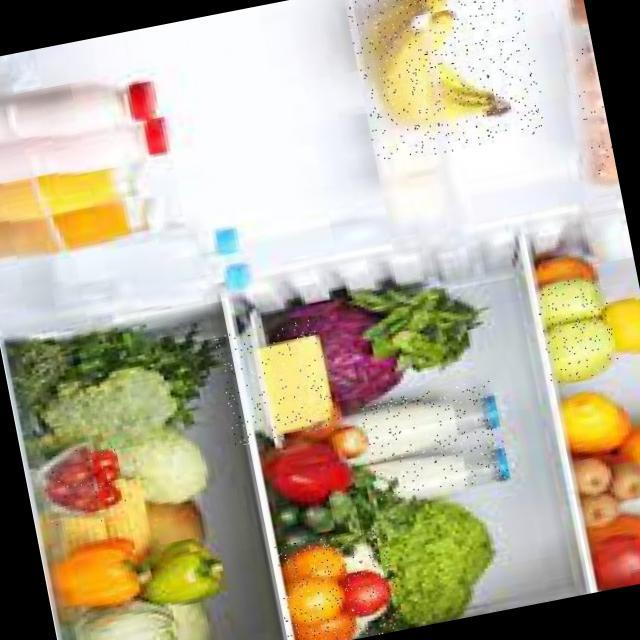Huevos: (568, 45, 621, 194)
Manzana: (530, 274, 620, 385)
Queso: (213, 315, 340, 449)
